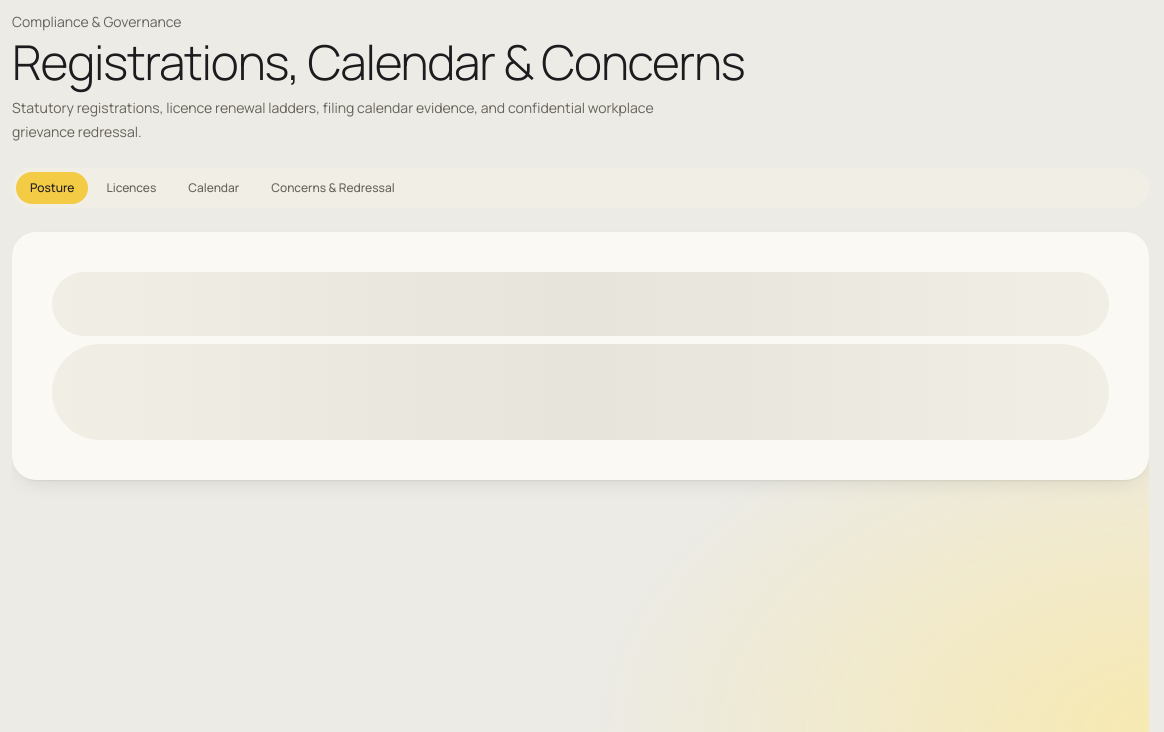
Test case: CompliancePage (Stage 5.7) › navigates to Licences tab and displays registrations with validity and alert actions
The width and height of the screenshot is (1164, 732).
Click the tab "Licences" at coordinates (131, 188), box [92,172,170,204]
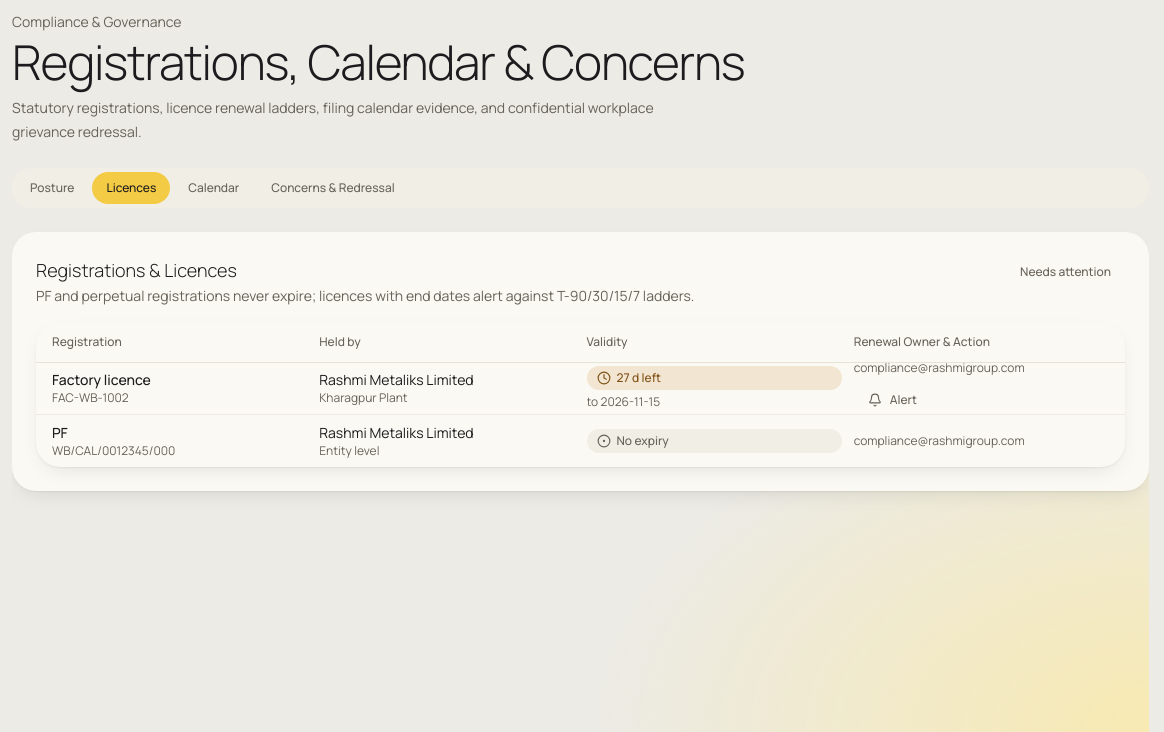
Expected: the text "Factory licence" is shown, [52,370,151,389]
Expected: the text "FAC-WB-1002" is shown, [52,389,129,406]
Expected: the text "27 d left" is shown, [586,366,842,390]
